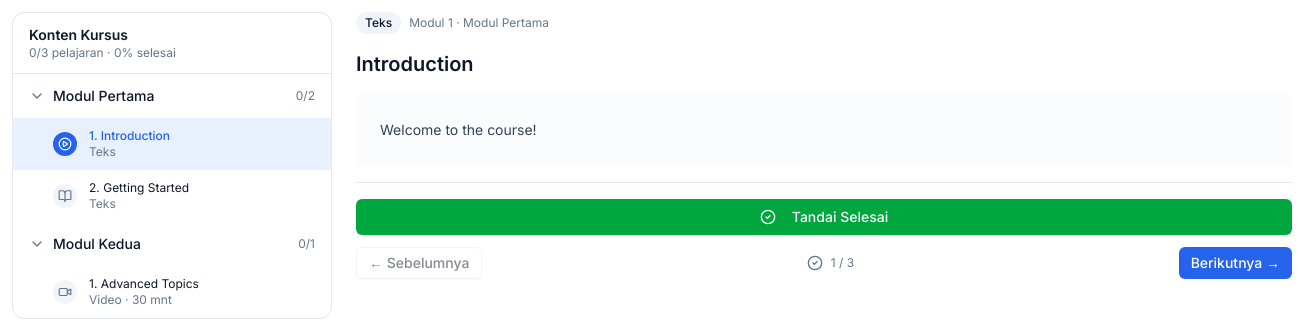
Test case: CoursePlayer › navigation › switches lesson when clicking sidebar item
The width and height of the screenshot is (1304, 336).
Click the button "2. Getting Started Teks" at (172, 196), box [13,170,331,222]
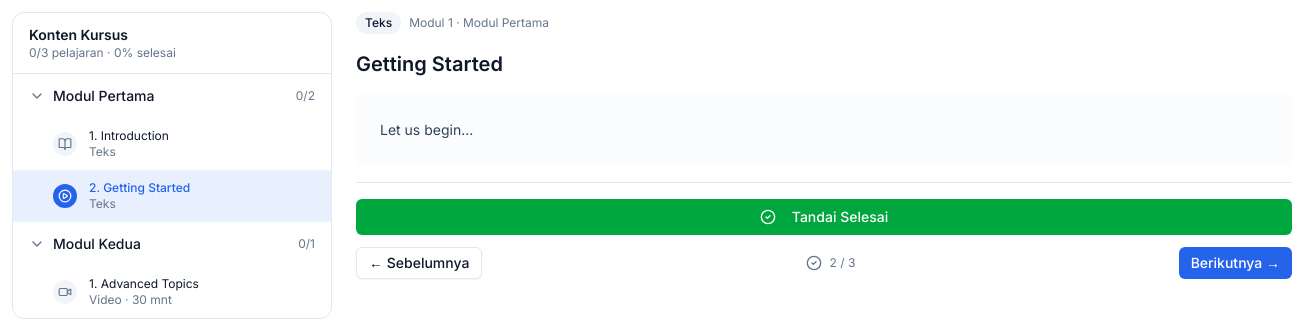
Expected: the text "Let us begin..." is shown, [380,121,473,138]
